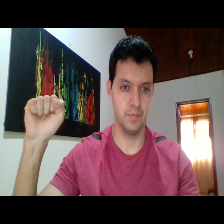9D: (18, 86, 72, 148)
